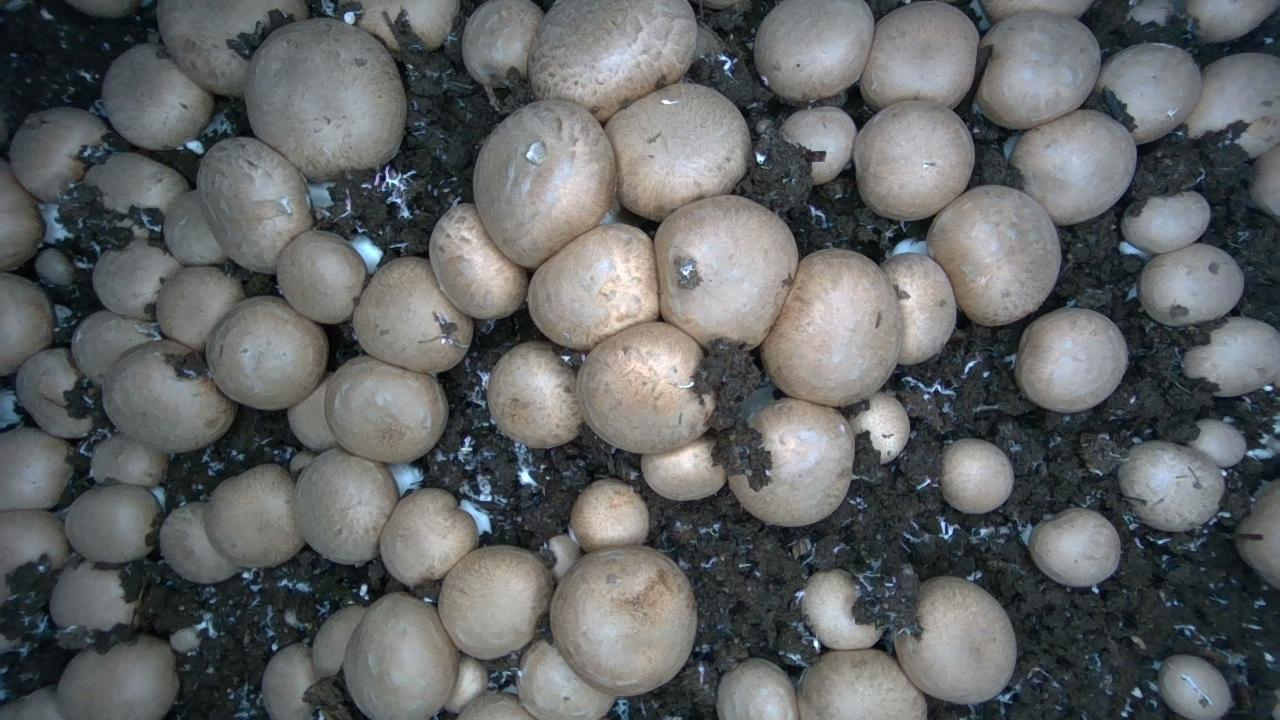BB: (244, 18, 407, 181), (473, 100, 616, 269), (654, 195, 798, 348), (605, 83, 752, 222), (527, 224, 660, 351), (197, 137, 313, 274), (102, 339, 237, 453), (353, 256, 473, 374), (205, 296, 329, 410), (324, 355, 448, 463), (294, 448, 398, 565), (102, 43, 215, 150), (429, 203, 529, 319), (204, 464, 305, 568), (9, 107, 108, 203), (277, 231, 367, 324), (64, 484, 162, 564), (156, 266, 245, 351), (92, 239, 181, 320), (16, 348, 94, 439), (71, 310, 162, 387), (159, 502, 238, 584), (84, 152, 189, 213), (0, 427, 73, 511), (163, 190, 227, 266), (90, 433, 169, 488), (287, 372, 337, 452), (34, 248, 76, 287)
